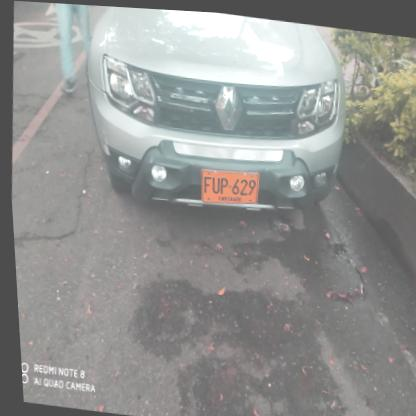placa: (194, 162, 260, 209)
